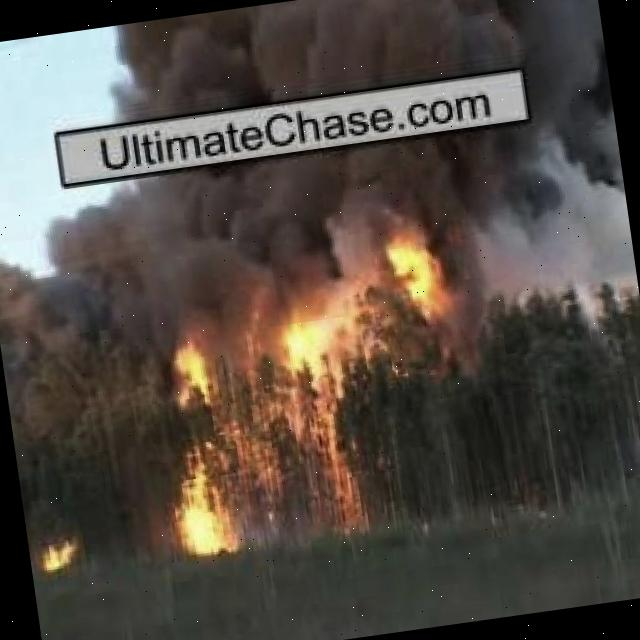fire: (142, 312, 361, 550), (366, 168, 472, 360), (28, 525, 88, 577)
